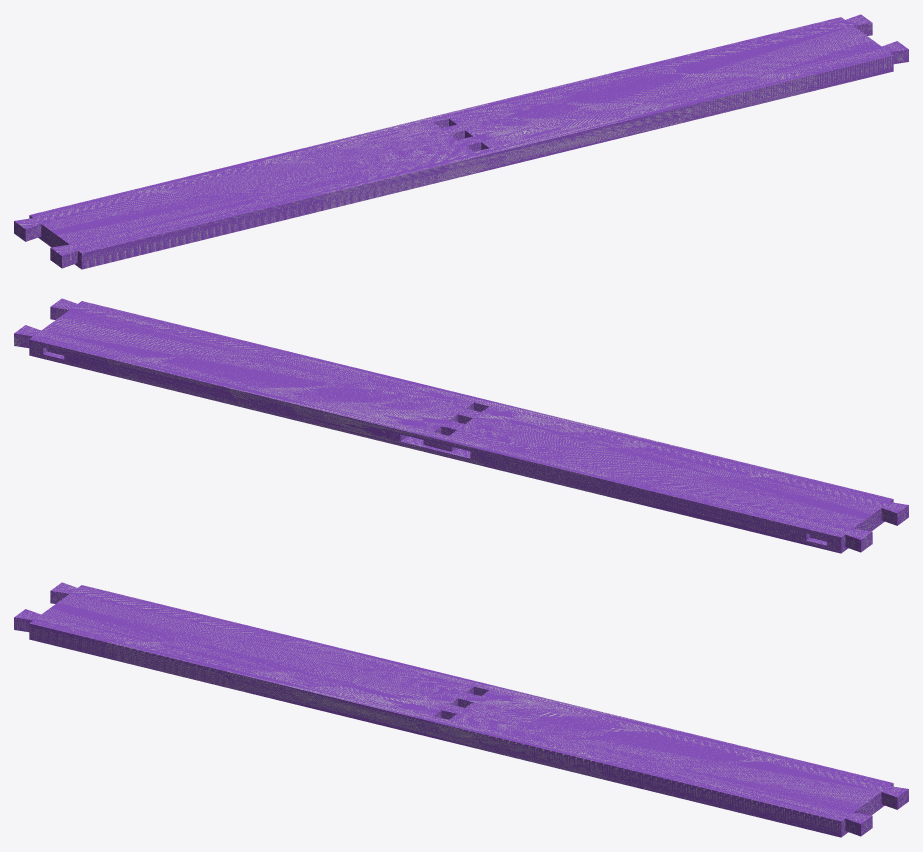
The model's file is original-6.obj.
3 views of the same model, one above another, from view 1: azimuth 30°, elevation 25°; view 2: azimuth 150°, elevation 25°; view 3: azimuth 330°, elevation 25° (orthographic).
Visible parts, largest first — view 1: Upper_divider1/Upper_divider/mesh6/mesh6-geometry#mesh6-geometry; view 2: Upper_divider1/Upper_divider/mesh6/mesh6-geometry#mesh6-geometry; view 3: Upper_divider1/Upper_divider/mesh6/mesh6-geometry#mesh6-geometry.
Part boxes in pixels (x1,y1,x2,y2): Upper_divider1/Upper_divider/mesh6/mesh6-geometry#mesh6-geometry: (14,14,908,269); Upper_divider1/Upper_divider/mesh6/mesh6-geometry#mesh6-geometry: (14,298,908,553); Upper_divider1/Upper_divider/mesh6/mesh6-geometry#mesh6-geometry: (14,582,908,837).
Size of the model in its own units: 1.27 by 0.0231 by 0.1365.
